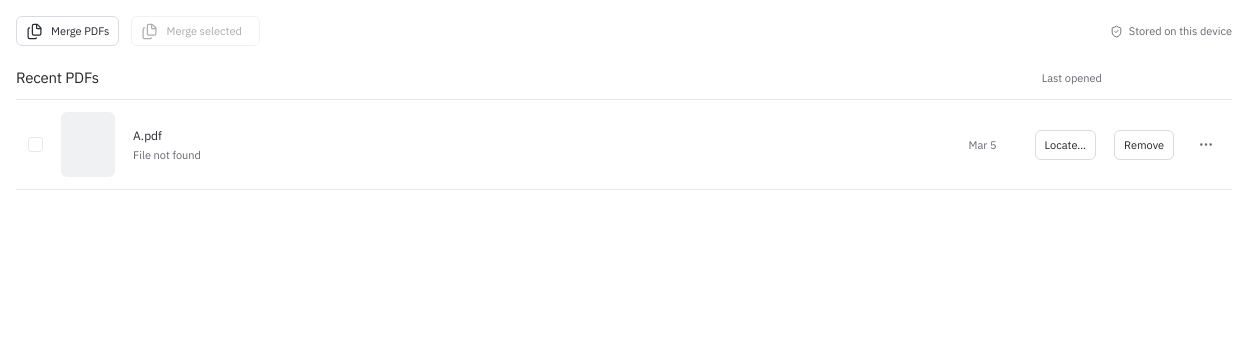
Test case: missing entries › Remove deletes the row
Expected: the text "File not found" is shown, top-left (133, 148), bottom-right (201, 162)
Click the button "Remove".
click(1144, 144)  # box top-left (1114, 130), bottom-right (1174, 160)
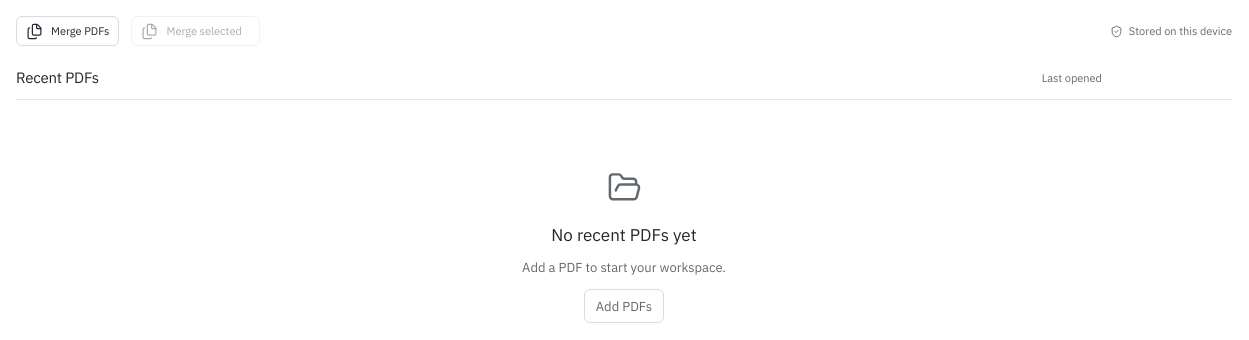
Expected: the heading "No recent PDFs yet" is shown, top-left (551, 224), bottom-right (697, 246)
